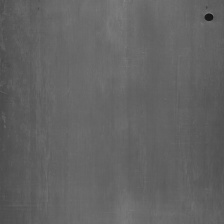punching_hole: (203, 11, 215, 23)
